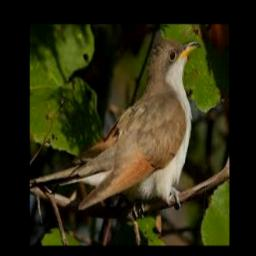Cuckoo: (76, 39, 201, 210)
